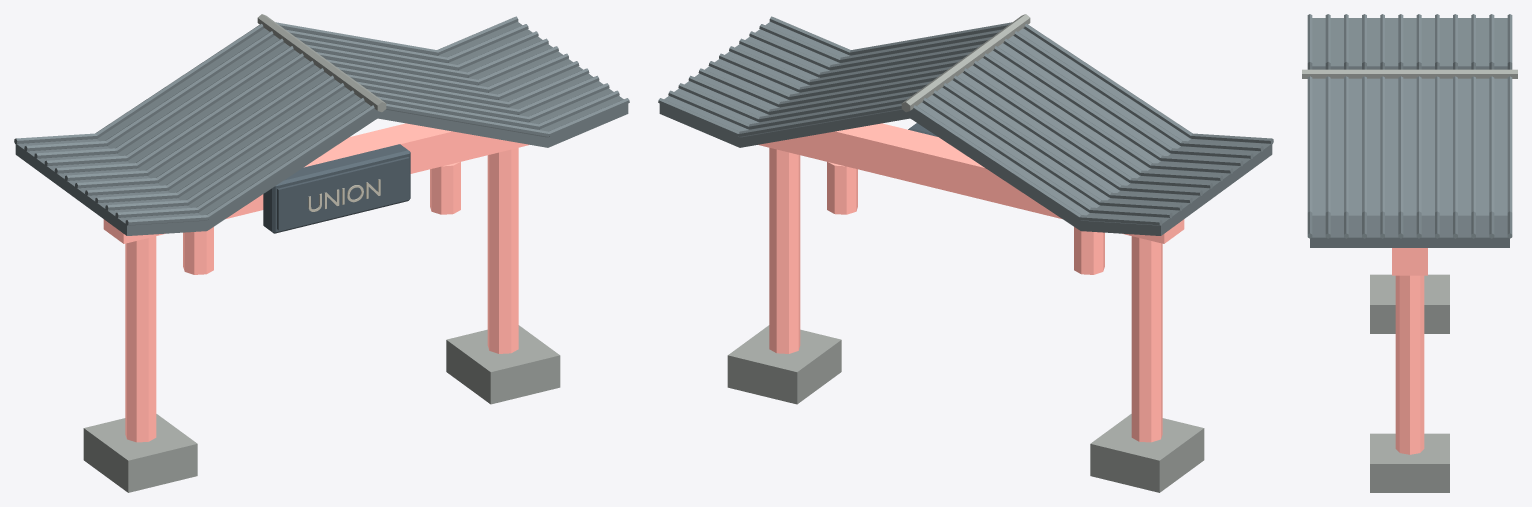
File: SM_ENV_Building_13_CultGate.glb
3 renders of one model, left to right at view 1: azimuth 30°, elevation 25°; view 2: azimuth 150°, elevation 25°; view 3: azimuth 270°, elevation 25°, orthographic. The views are drawn at different scales.
Visible parts, largest first — view 1: SM_ENV_Building_13_CultGate; view 2: SM_ENV_Building_13_CultGate; view 3: SM_ENV_Building_13_CultGate.
Boxes of the visible parts, left/top/right/bottom form: SM_ENV_Building_13_CultGate: left=14, top=14, right=629, bottom=492; SM_ENV_Building_13_CultGate: left=658, top=14, right=1273, bottom=492; SM_ENV_Building_13_CultGate: left=1302, top=14, right=1517, bottom=492.
Size of the model in its own units: 6.51 by 4.53 by 2.7.
